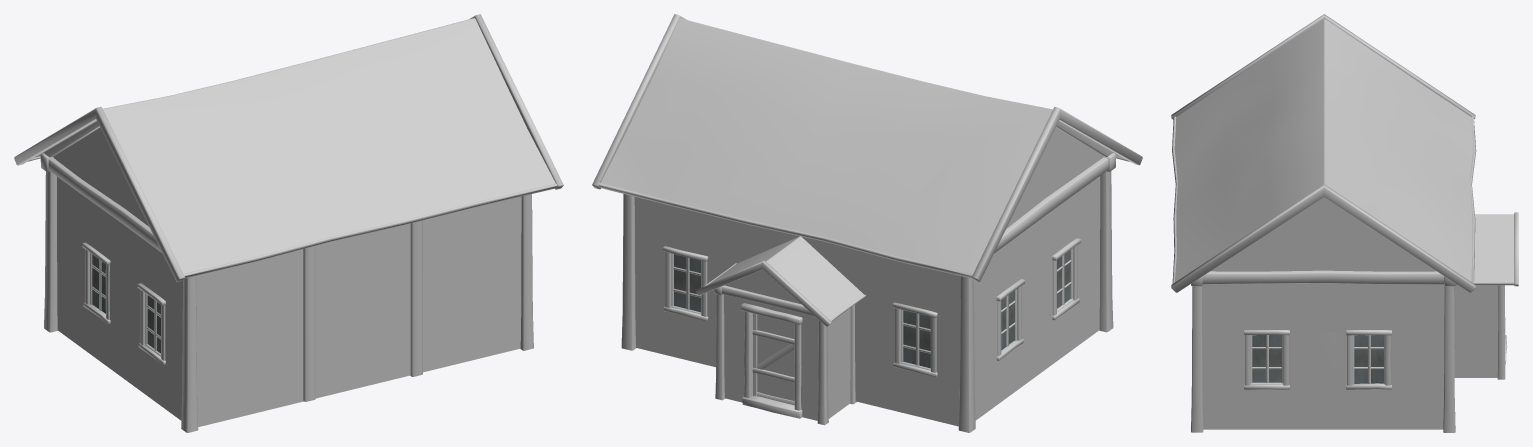
The model's file is House_4.FBX.
3 renders of one model, left to right at view 1: azimuth 30°, elevation 25°; view 2: azimuth 150°, elevation 25°; view 3: azimuth 270°, elevation 25°, orthographic. The views are drawn at different scales.
Parts seen in each view (by area): view 1: Mesh; view 2: Mesh; view 3: Mesh.
Boxes of the visible parts, x1,y1,x2,y2 form: Mesh: [14, 14, 563, 432]; Mesh: [592, 14, 1142, 432]; Mesh: [1171, 14, 1518, 432].
Bounding box in the file's own units: 1054 × 895 × 726.
